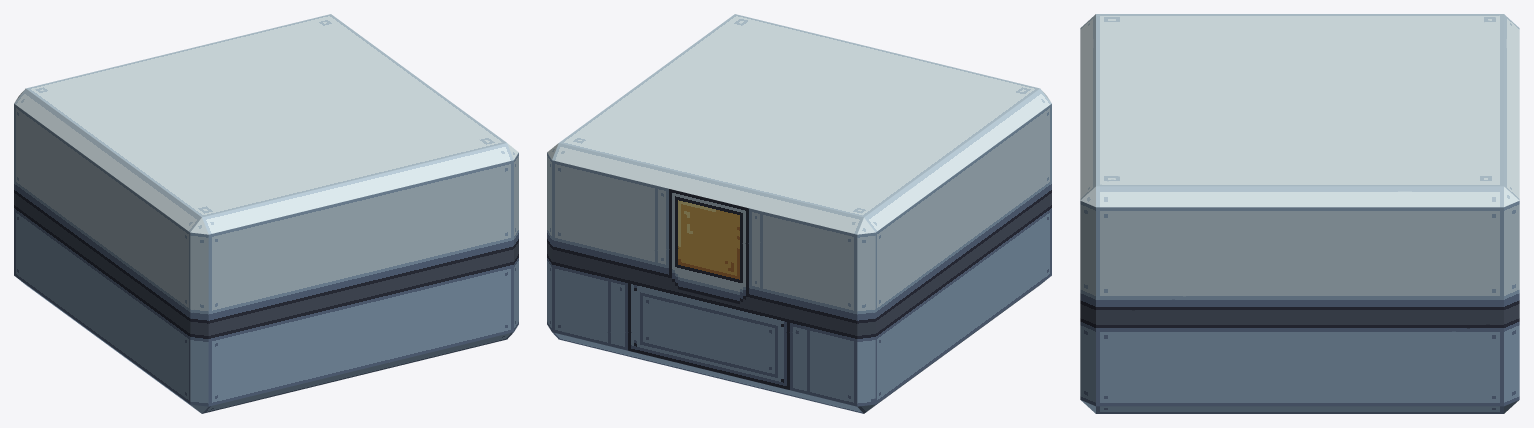
File: CapsuleBot.gltf
3 renders of one model, left to right at view 1: azimuth 30°, elevation 25°; view 2: azimuth 150°, elevation 25°; view 3: azimuth 270°, elevation 25°, orthographic. The views are drawn at different scales.
Visible parts, largest first — view 1: Top, Bottom; view 2: Top, Bottom; view 3: Top, Bottom.
Boxes of the visible parts, box(x1,y1,x2,y2) form: Top: box(14, 14, 518, 332); Bottom: box(14, 202, 518, 413); Top: box(547, 14, 1051, 332); Bottom: box(547, 202, 1051, 413); Top: box(1080, 14, 1519, 320); Bottom: box(1080, 314, 1519, 413).
Size of the model in its own units: 1.75 by 1 by 1.75.
1 material, 1 textured.
